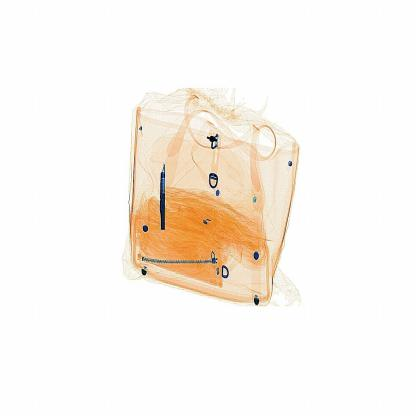pliers: (152, 164, 170, 236)
